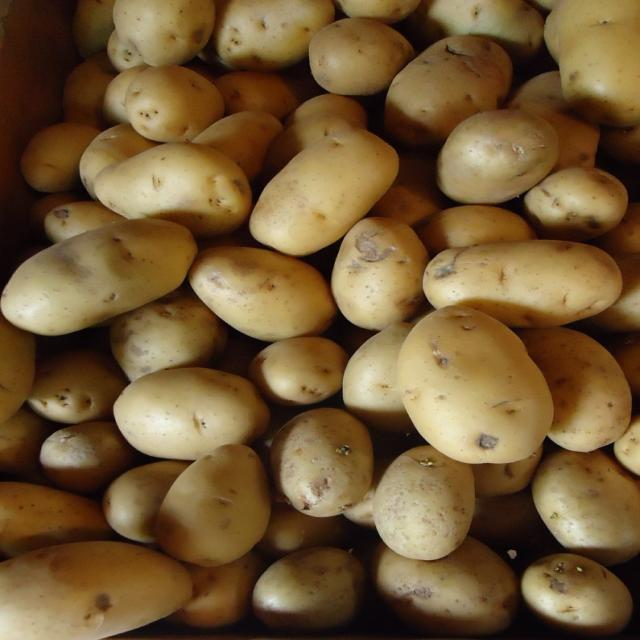potato: (0, 220, 204, 341), (404, 314, 550, 466), (248, 131, 404, 255), (114, 352, 268, 457), (417, 238, 626, 315), (148, 450, 278, 570), (373, 449, 480, 565), (436, 118, 560, 200), (283, 413, 369, 522)
